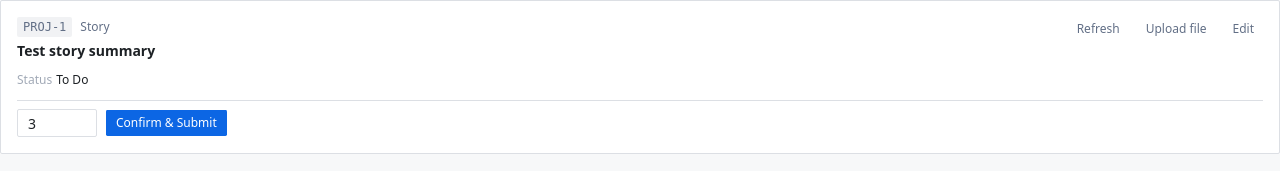
Scenario: IssuePanel submitted state (line 715) › shows 'points submitted to Jira' after successful submit
This screenshot has width=1280, height=171.
Expected: the number field is not empty, [17,109,97,137]
Click the button "Confirm & Submit". click: point(166, 123)
box: [105,109,228,137]
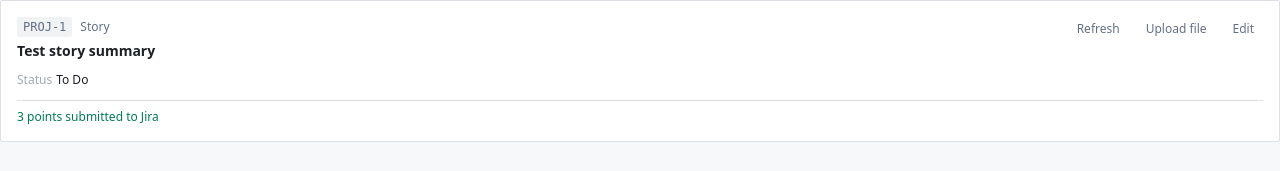
Expected: the text "3 points submitted to Jira" is shown, [17,100,1263,125]
